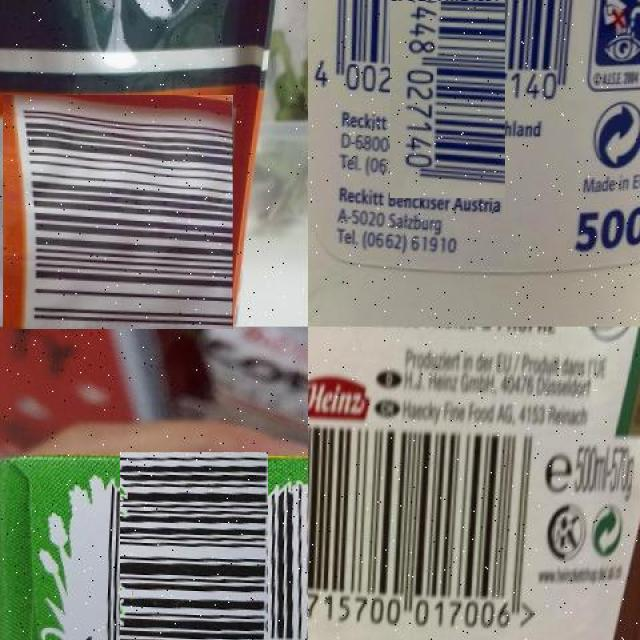Barcode: (1, 96, 234, 328), (309, 423, 547, 640), (100, 472, 288, 640), (349, 0, 547, 157)
